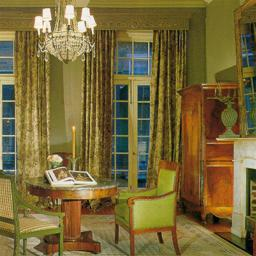Armario: (179, 85, 233, 226)
Ventana: (103, 38, 178, 190)
